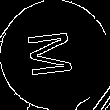M_E: (27, 29, 83, 81)
